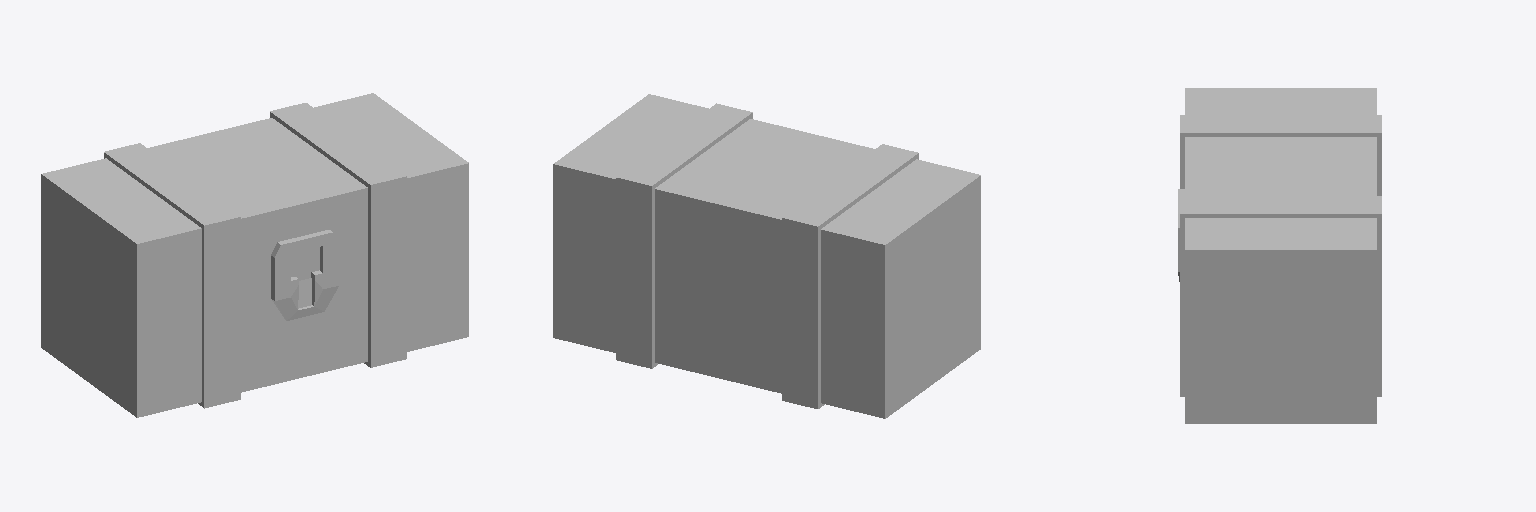
File: chest.obj
3 views of the same model, side by side, from view 1: azimuth 30°, elevation 25°; view 2: azimuth 150°, elevation 25°; view 3: azimuth 270°, elevation 25° (orthographic).
Visible parts, largest first — view 1: Cube.001, Cube; view 2: Cube.001, Cube; view 3: Cube.001, Cube.
Boxes of the visible parts, x1=… form: Cube.001: x1=41, y1=93, x2=468, y2=330; Cube: x1=41, y1=250, x2=468, y2=417; Cube.001: x1=553, y1=94, x2=980, y2=331; Cube: x1=553, y1=251, x2=980, y2=418; Cube.001: x1=1178, y1=88, x2=1381, y2=336; Cube: x1=1180, y1=305, x2=1381, y2=423.
Size of the model in its own units: 4 by 2.1 by 2.13.